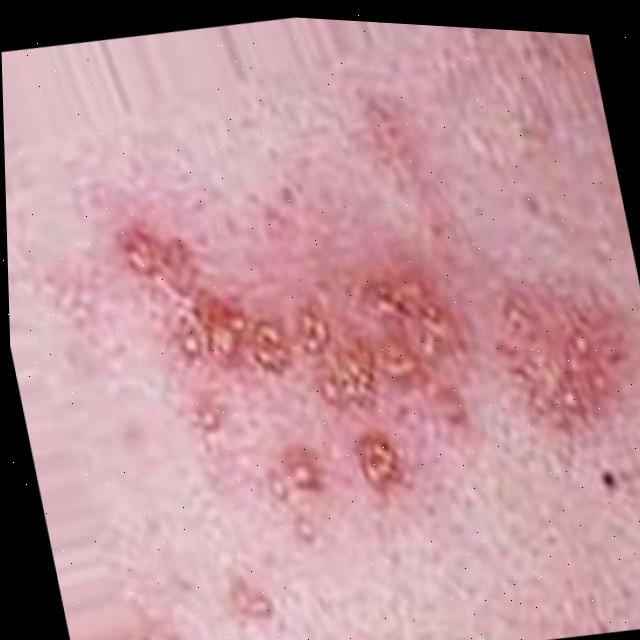Shingles: (118, 186, 458, 519), (489, 276, 623, 453)
